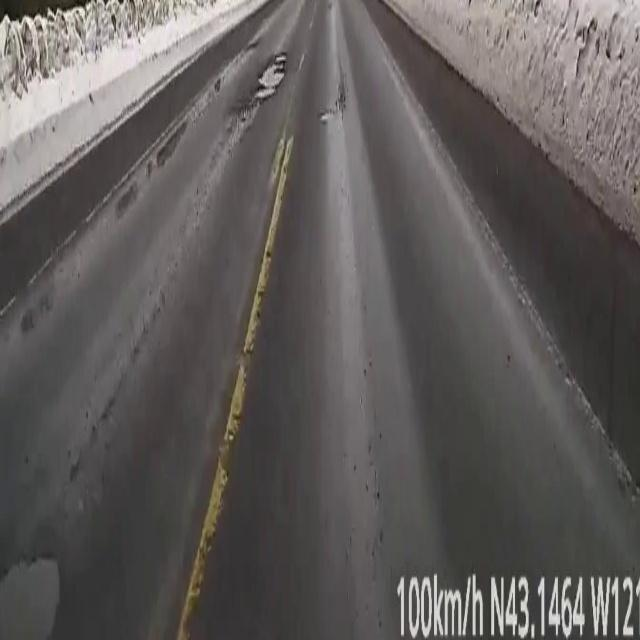pothole: (254, 52, 284, 101), (0, 630, 59, 636)
